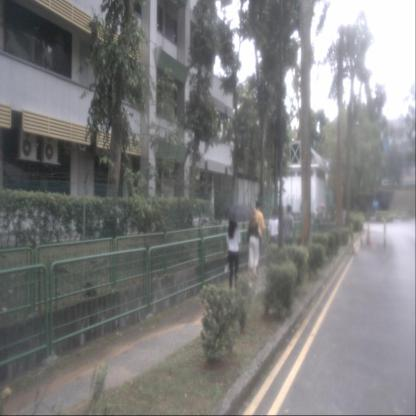human-pedestrian-adult: (226, 213, 241, 291), (246, 209, 259, 277), (252, 202, 265, 267), (281, 203, 295, 257), (268, 210, 280, 263)
movable_object-trafficcone: (366, 225, 372, 246)
